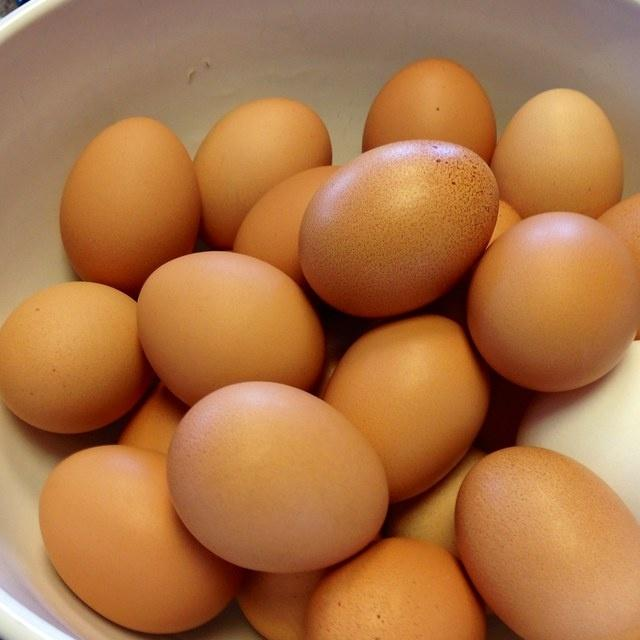egg: (166, 380, 389, 573), (38, 443, 239, 635), (454, 445, 640, 640), (298, 138, 499, 317), (467, 210, 640, 392), (323, 314, 489, 502), (136, 249, 325, 407), (58, 115, 200, 293), (515, 338, 640, 534), (0, 280, 147, 434), (193, 96, 332, 248), (304, 536, 486, 640), (490, 87, 623, 218), (361, 56, 496, 163), (232, 164, 342, 284), (597, 185, 640, 342)
